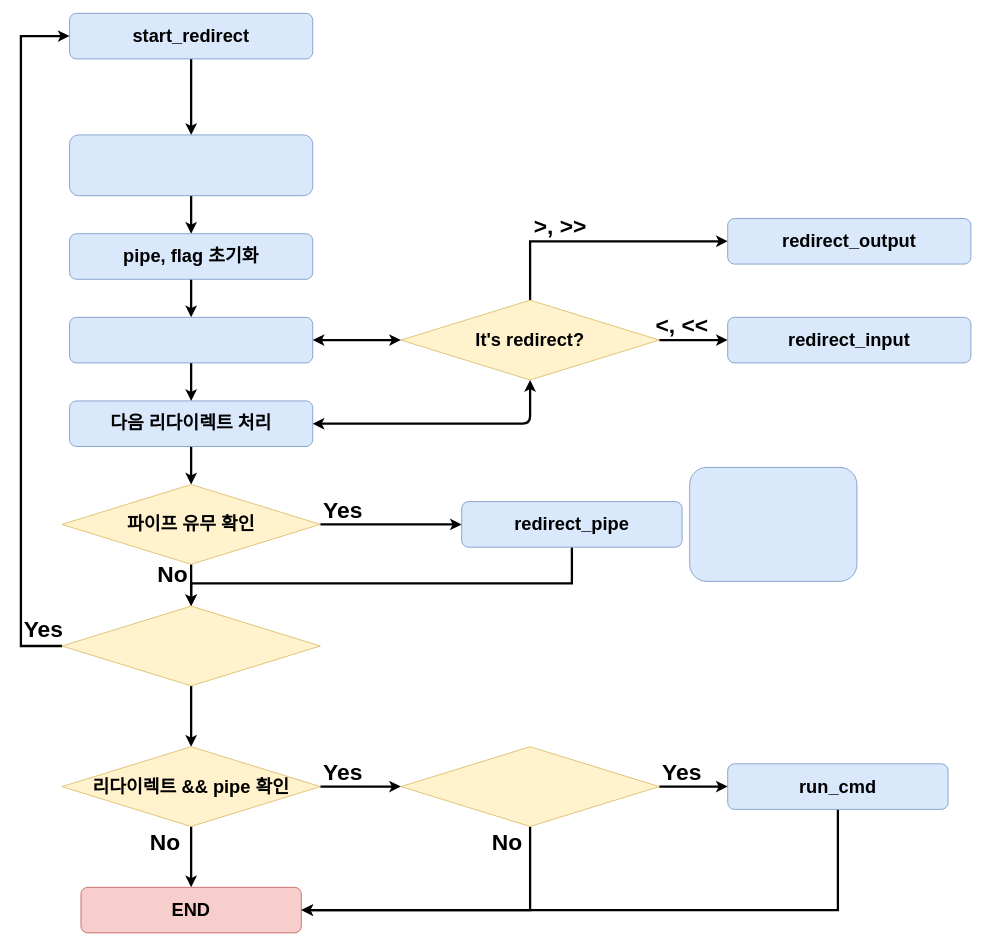
This 984x946 diagram has some shape labels left out. Here are the shapes that lost their labels. From the top down, the centre of each, then its label:
At (191,165): "이전 리다이렉트 가져오기 다음 리다이렉트 가져오기".
At (191,340): "이전 리다이렉트 처리".
At (773,524): "pipe = 2 -> child pipe = 1 -> parent".
At (190,645): "cmd 유무 확인 and pipe 확인".
At (529,786): "It's cmd?".
